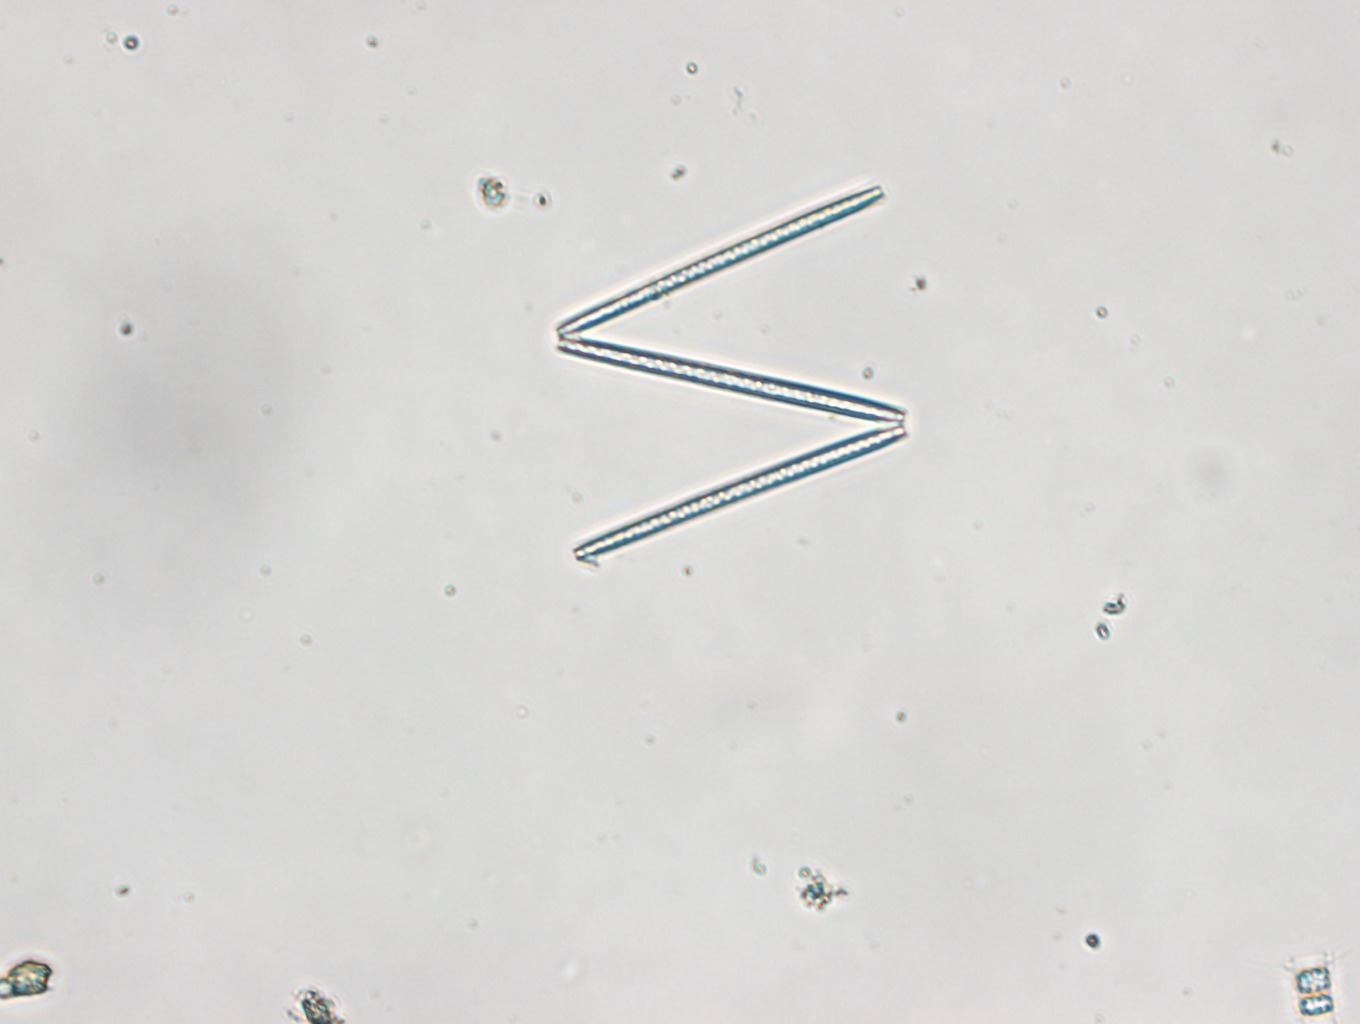thalassionema nitzschioides: (555, 183, 908, 561)
